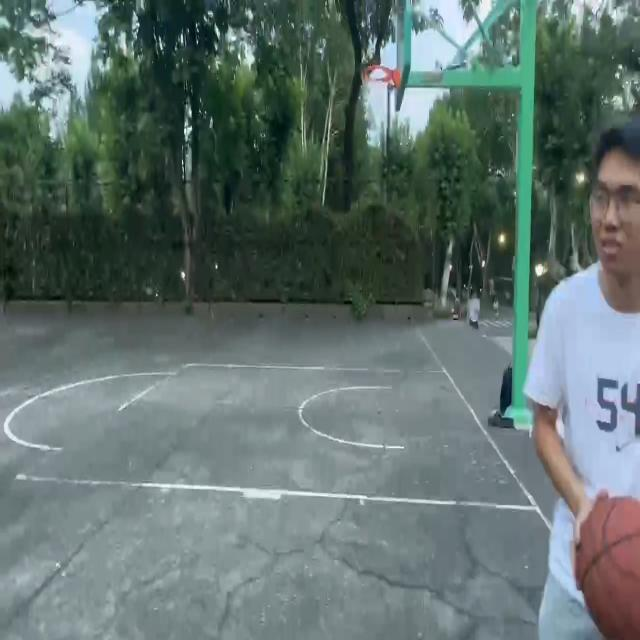basketball: (361, 60, 398, 113)
rim: (577, 490, 638, 640)
